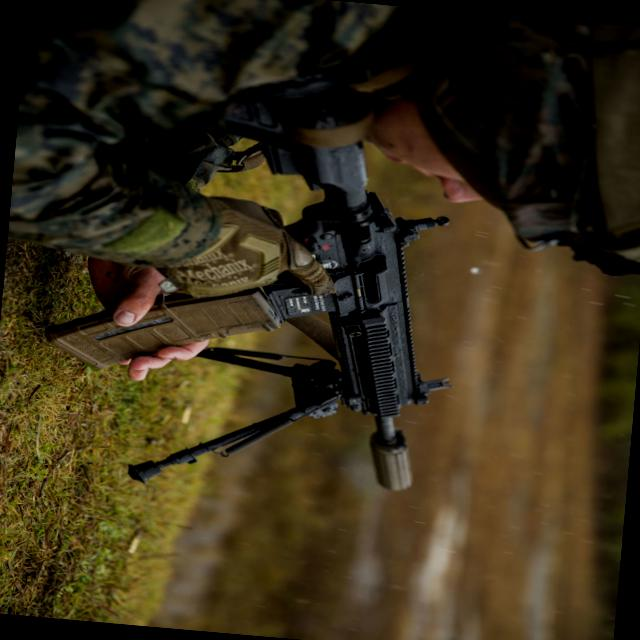long weapon: (226, 192, 483, 498)
